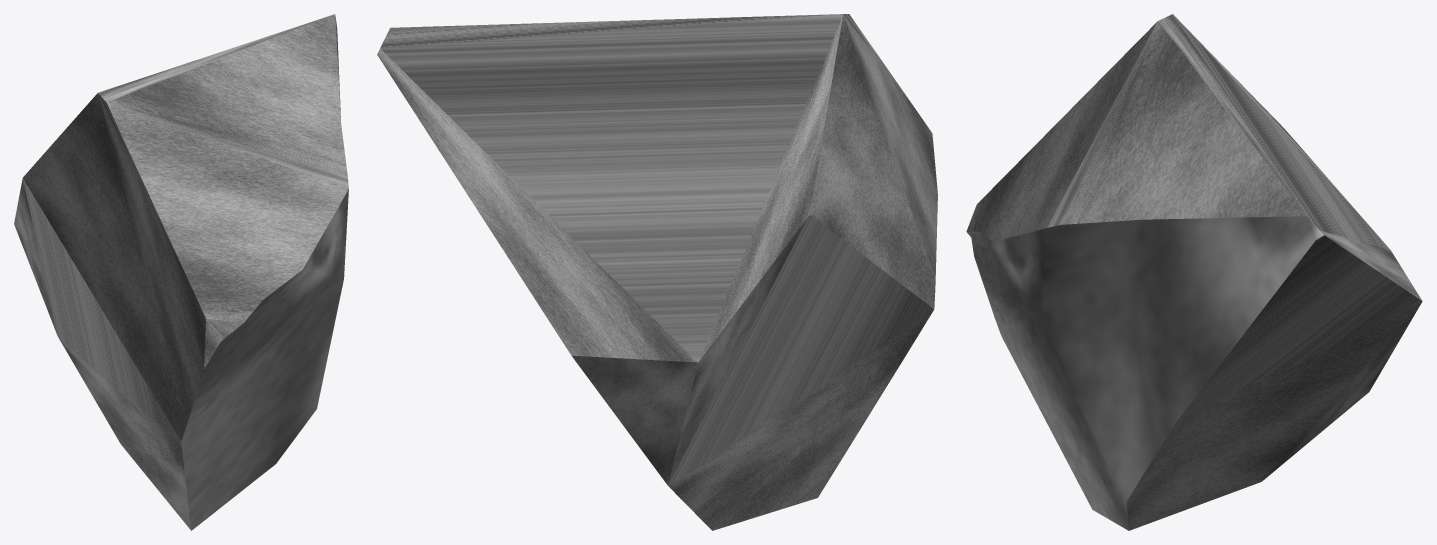
The model's file is body_cell_017.fbx.
3 renders of one model, left to right at view 1: azimuth 30°, elevation 25°; view 2: azimuth 150°, elevation 25°; view 3: azimuth 270°, elevation 25°, orthographic. The views are drawn at different scales.
Parts seen in each view (by area): view 1: body_cell.017; view 2: body_cell.017; view 3: body_cell.017.
Part boxes in pixels (x1,y1,x2,y2): body_cell.017: [14, 14, 348, 530]; body_cell.017: [377, 14, 937, 530]; body_cell.017: [966, 14, 1422, 530].
Size of the model in its own units: 34.14 by 42.17 by 37.46.
